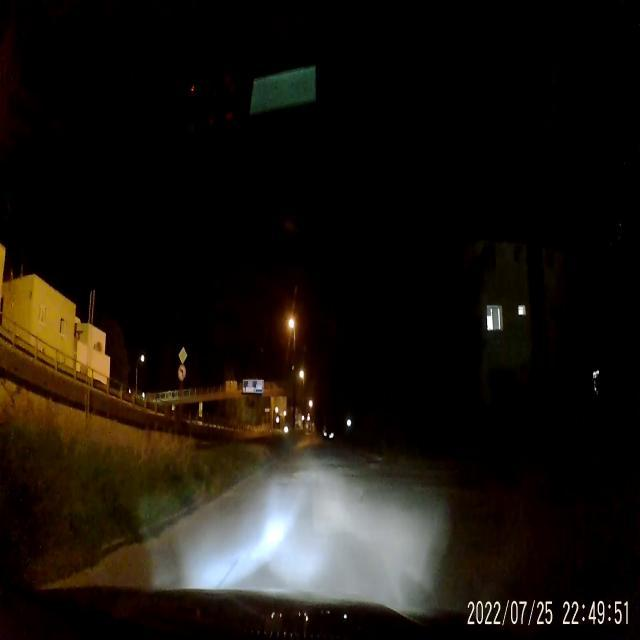Pothole: (342, 464, 364, 486)
